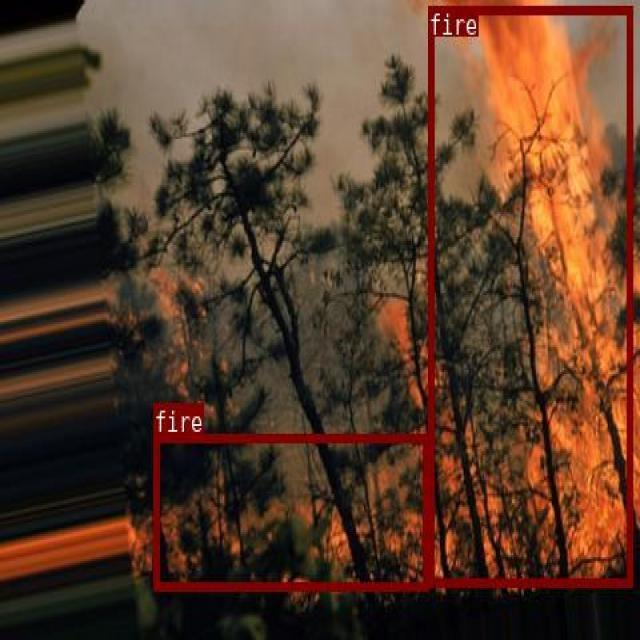fire: (428, 6, 632, 585), (153, 432, 427, 588)
